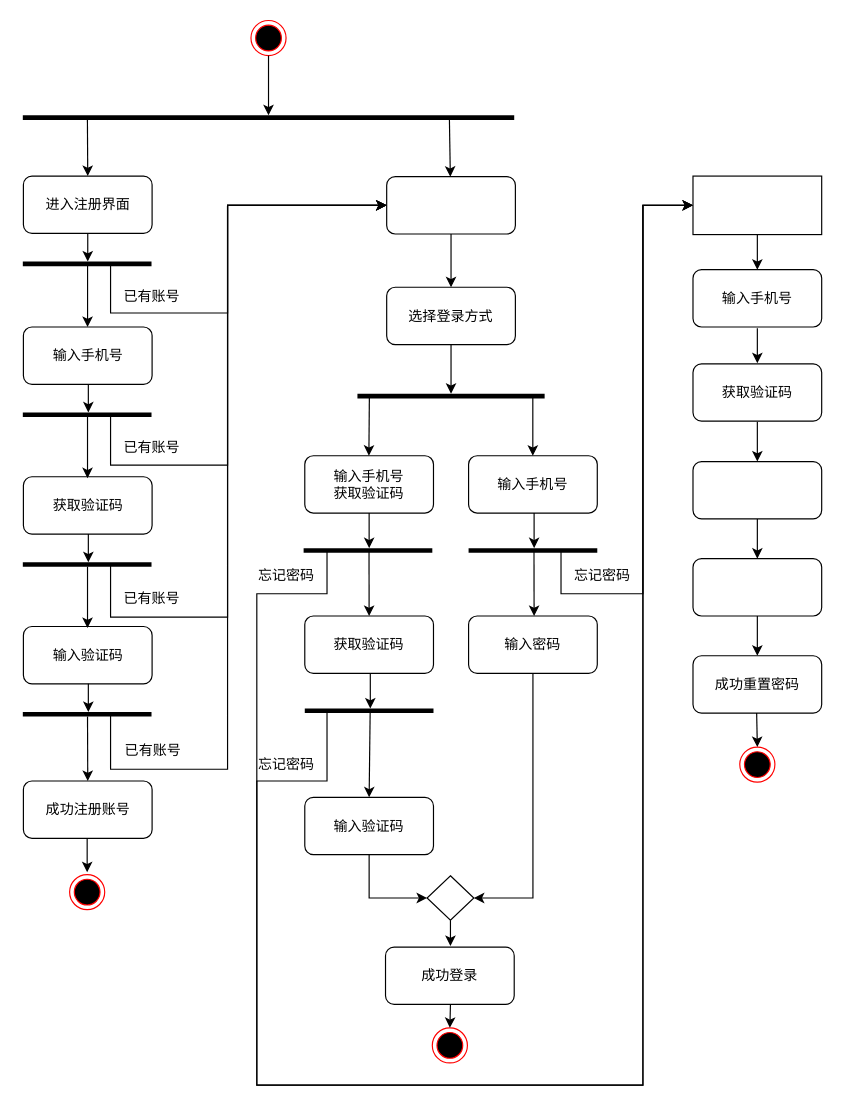
Image size: 842x1115. Some labels were removed from this diagram. Here are the shapes that lost their labels. From the top down, the box of each, then its label:
(386, 176, 515, 234): 进入登陆界面
(692, 175, 822, 235): 进入重置密码界面
(692, 460, 822, 519): 设置密码
(692, 558, 822, 616): 确认密码
